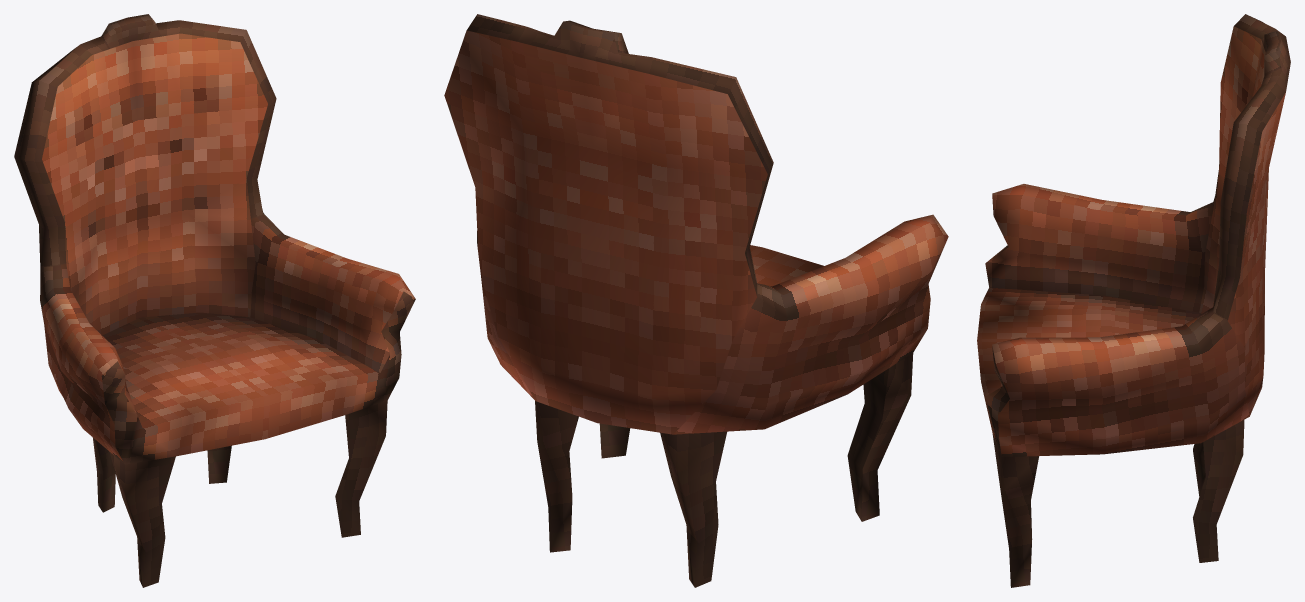
Rendered from Chair.fbx.
The picture shows the model from 3 angles, left to right: view 1: azimuth 30°, elevation 25°; view 2: azimuth 150°, elevation 25°; view 3: azimuth 270°, elevation 25°; orthographic projection. The views are drawn at different scales.
Parts seen in each view (by area): view 1: chair02; view 2: chair02; view 3: chair02.
Boxes of the visible parts, <box> form: chair02: <box>14,14,415,587</box>; chair02: <box>444,14,948,587</box>; chair02: <box>977,14,1290,587</box>.
Bounding box in the file's own units: 175 × 235 × 137.
